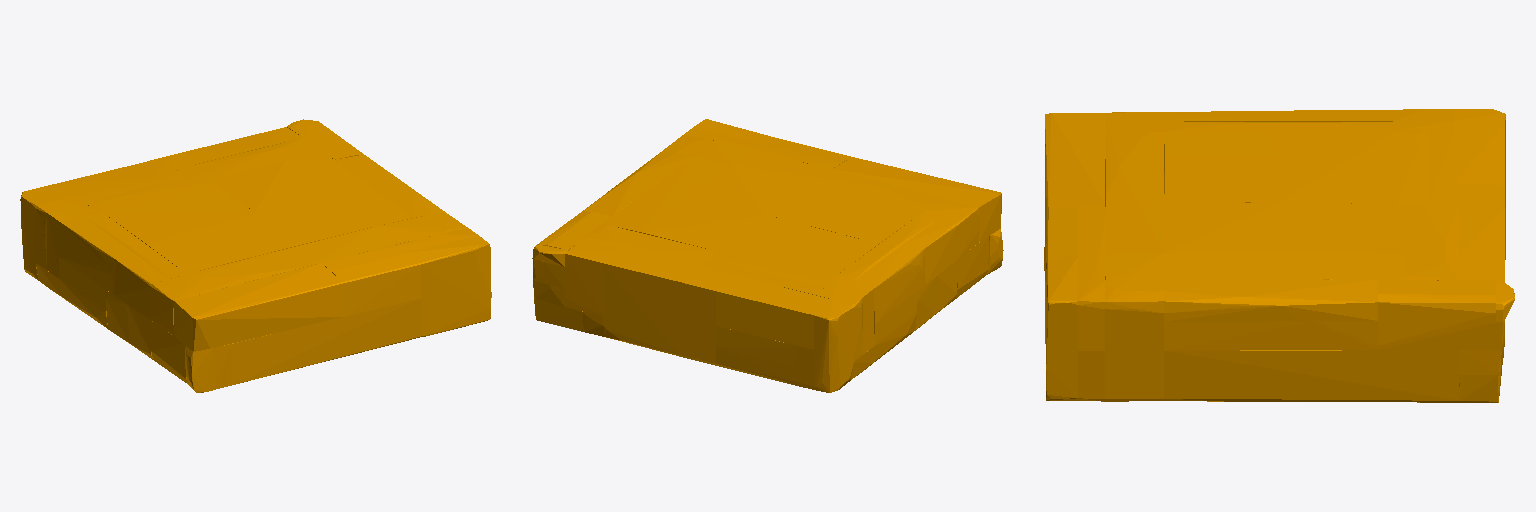
robot.urdf — box-corny:
<?xml version="1.0" ?>
<robot name="box-corny">
  <link name="baseLink">
    <contact>
      <lateral_friction value="1.0"/>
      <inertia_scaling value="3.0"/>
    </contact>
    <inertial>
      <origin rpy="0 0 0" xyz="0.000 0.000 0.000"/>
       <mass value=".1"/>
       <inertia ixx="1" ixy="0.0" ixz="0.0" iyy="1" iyz="0.0" izz="1"/>
    </inertial>
    <visual>
      <origin rpy="0 0 0" xyz="0 0 0"/>
      <geometry>
        <mesh filename="box/box-corny.obj" scale="1.0 1.0 1.0"/>
      </geometry>
    </visual>
    <collision>
      <origin rpy="0 0 0" xyz="0 0 0"/>
      <geometry>
        <mesh filename="../collision/box/box-corny.obj" scale="1.0 1.0 1.0"/>
      </geometry>
    </collision>
  </link>
</robot>
        

--- Facts derived from the render (not from the file) ---
The picture shows the robot from 3 angles, left to right: view 1: azimuth 30°, elevation 25°; view 2: azimuth 150°, elevation 25°; view 3: azimuth 270°, elevation 25°; orthographic projection.
Robot: box-corny — 1 links, 0 joints (none); root link baseLink; default pose: all joints at 0.
Links seen in each view (by area): view 1: baseLink; view 2: baseLink; view 3: baseLink.
Link boxes in pixels (<box>): baseLink: <box>20,119,491,392</box>; baseLink: <box>532,119,1003,392</box>; baseLink: <box>1044,109,1514,402</box>.
Bounding box of the posed robot: 0.1476 × 0.1498 × 0.039 m (x, y, z).
Meshes: 1 distinct files referenced, 1 mesh visuals loaded (1 OBJ).
